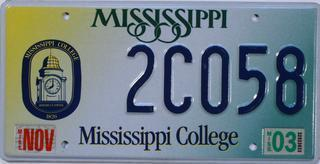placa de veiculo: (4, 1, 317, 159)
